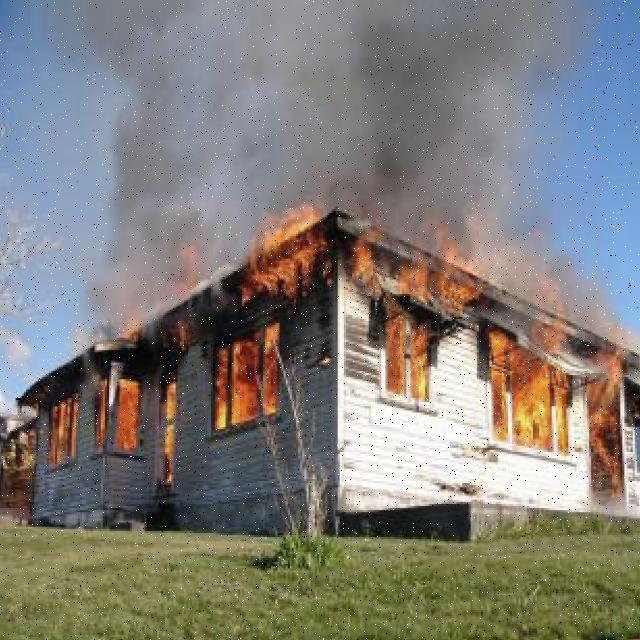fire: (494, 302, 574, 462), (352, 213, 477, 315), (583, 344, 633, 498), (217, 330, 286, 438), (242, 213, 327, 298), (384, 319, 436, 408), (167, 246, 205, 348), (111, 371, 147, 456), (41, 398, 86, 464), (161, 371, 184, 495), (116, 300, 142, 350)
smoke: (487, 203, 629, 300), (76, 205, 167, 300)
